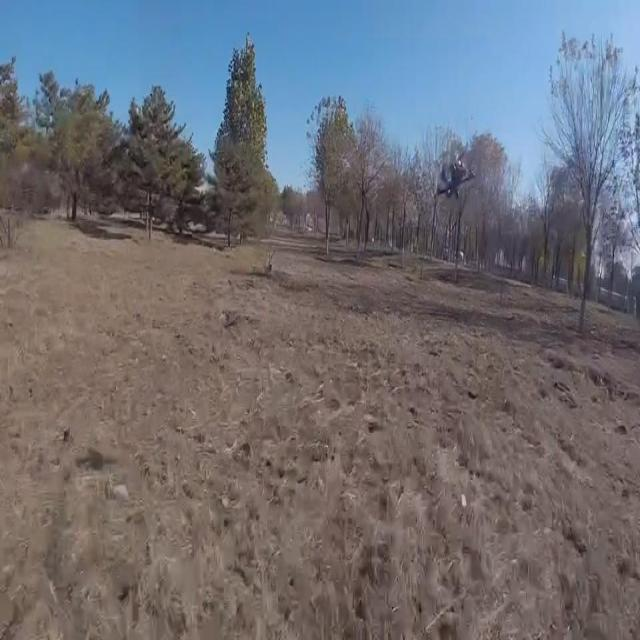drone: (431, 155, 479, 209)
